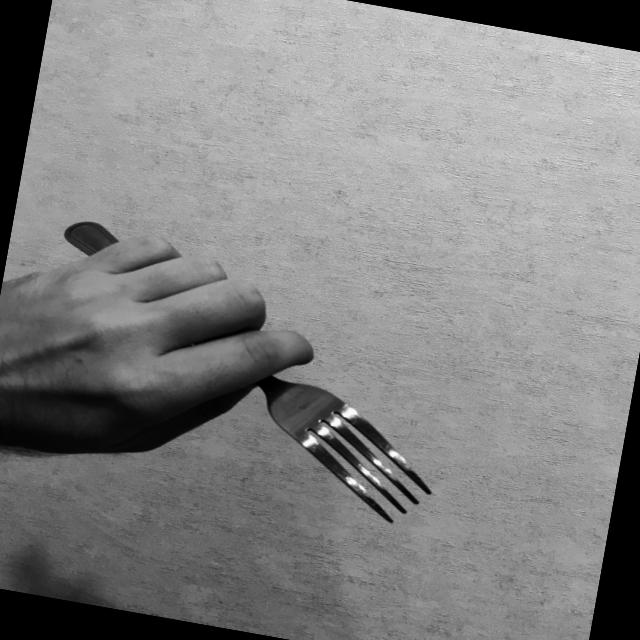fork: (22, 215, 471, 532)
